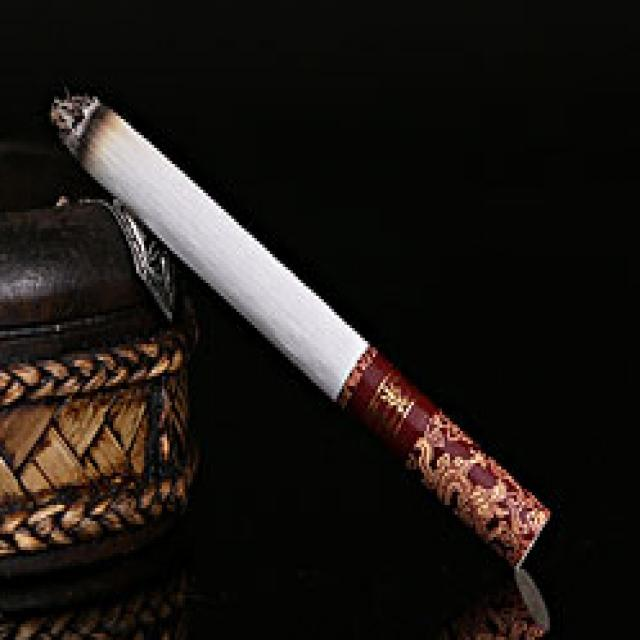smoking: (54, 95, 553, 570)
